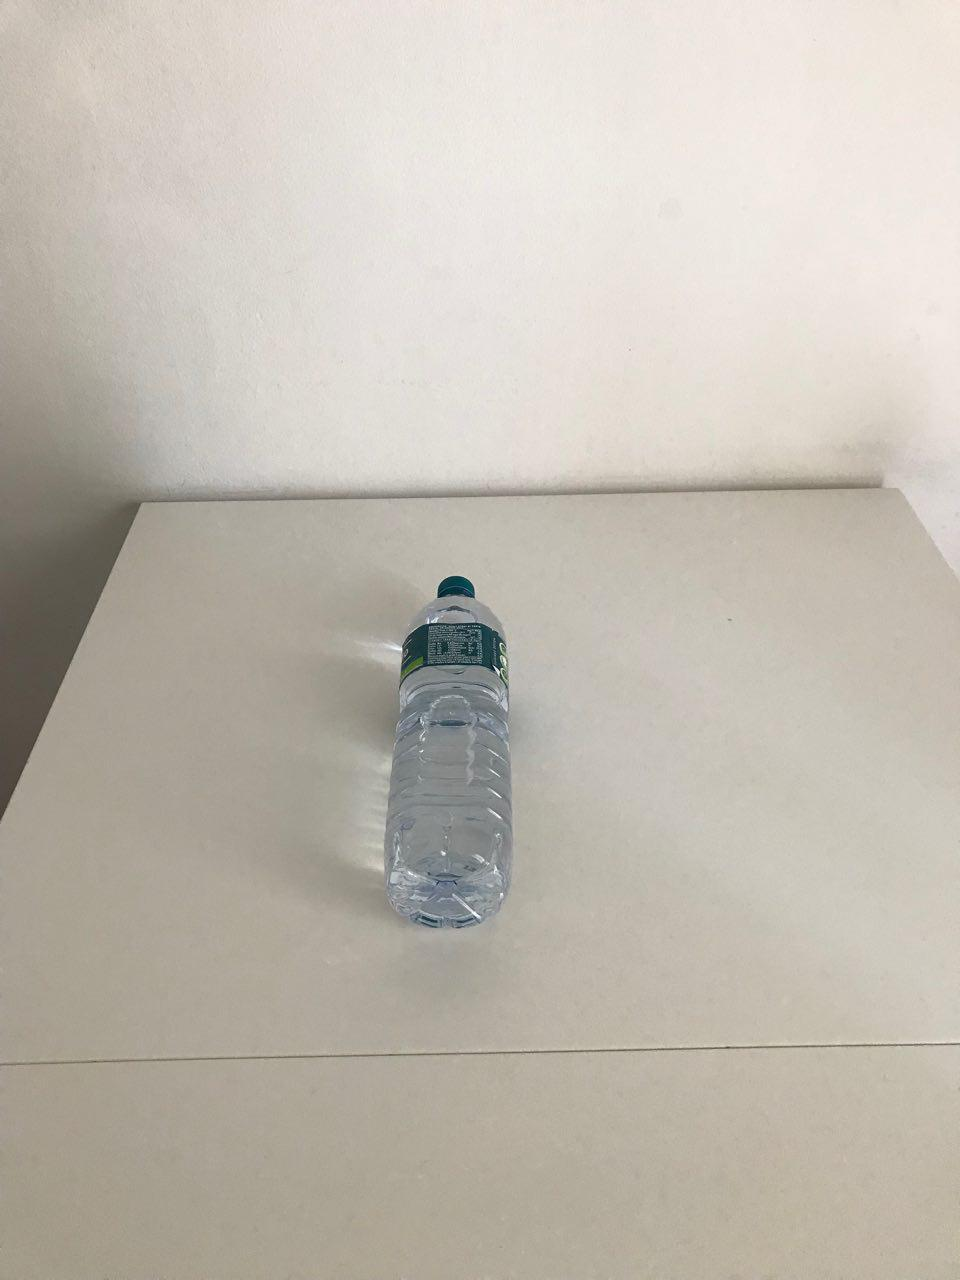san_bernardo: (381, 575, 515, 931)
